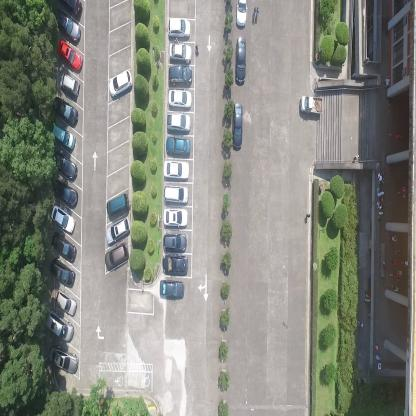car: (44, 310, 75, 343), (54, 10, 81, 44), (56, 38, 82, 73), (49, 344, 78, 375), (50, 231, 77, 264), (48, 257, 76, 287), (105, 214, 130, 246), (49, 204, 75, 233), (53, 96, 78, 126), (53, 150, 78, 180), (104, 241, 129, 270), (108, 68, 132, 98), (51, 124, 76, 152), (106, 191, 129, 221), (165, 134, 192, 158), (162, 254, 188, 277), (55, 181, 78, 207), (54, 289, 76, 316), (235, 35, 246, 88), (163, 160, 189, 182), (58, 70, 80, 96), (162, 208, 189, 228), (232, 101, 243, 150), (162, 233, 187, 254), (159, 280, 185, 300), (299, 94, 323, 115), (168, 42, 193, 62), (168, 65, 193, 85), (167, 89, 192, 109), (163, 187, 189, 206), (168, 18, 190, 40), (167, 113, 191, 132), (59, 0, 82, 17), (235, 0, 248, 29)
